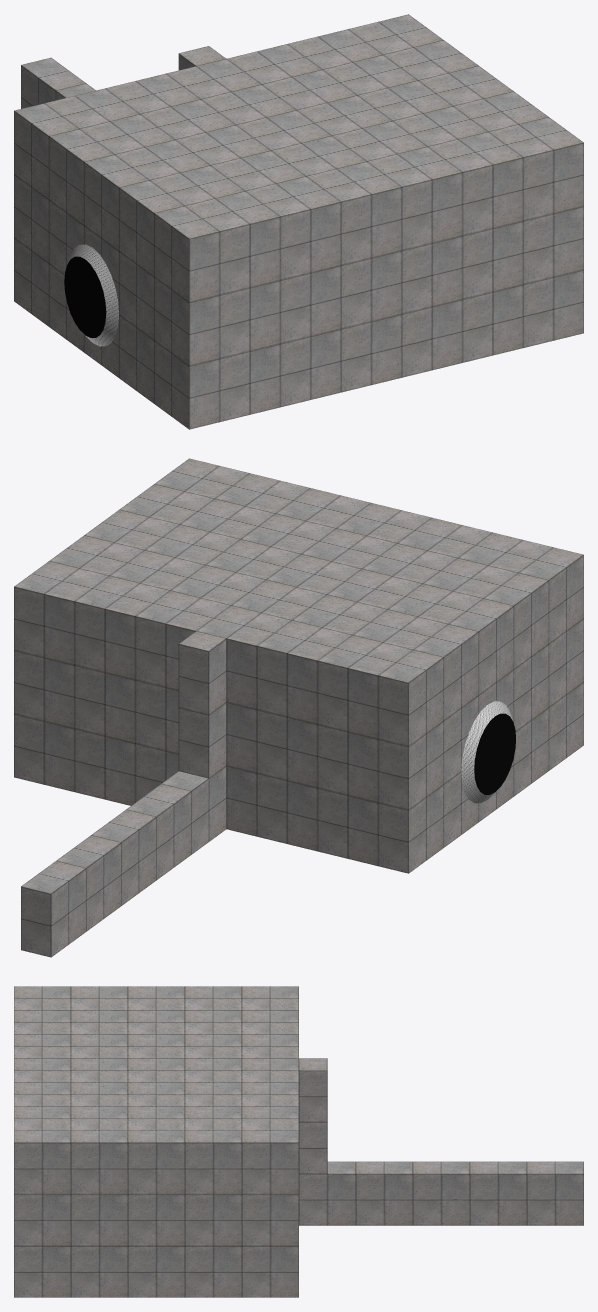
Rendered from PlayUpGrp0.dae.
3 renders of one model, top to bottom at view 1: azimuth 30°, elevation 25°; view 2: azimuth 150°, elevation 25°; view 3: azimuth 270°, elevation 25°, orthographic. The views are drawn at different scales.
Visible parts, largest first — view 1: mesh0%root%0%, mesh0%root%1%, mesh0%root%2%; view 2: mesh0%root%0%, mesh0%root%1%, mesh0%root%2%; view 3: mesh0%root%0%.
Boxes of the visible parts, x1,y1,x2,y2 form: mesh0%root%0%: [14, 14, 583, 429]; mesh0%root%1%: [64, 256, 106, 337]; mesh0%root%2%: [67, 244, 118, 346]; mesh0%root%0%: [14, 458, 583, 957]; mesh0%root%1%: [474, 713, 515, 794]; mesh0%root%2%: [461, 701, 512, 803]; mesh0%root%0%: [14, 986, 583, 1297].
Bounding box in the file's own units: 13.25 × 6 × 20.
